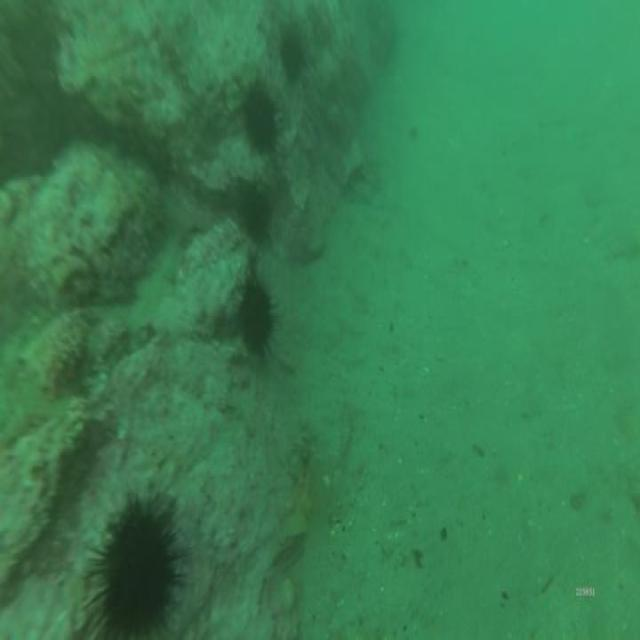echinus: (100, 517, 173, 632), (239, 286, 273, 352), (243, 86, 274, 156), (241, 186, 274, 244), (284, 34, 302, 78)
